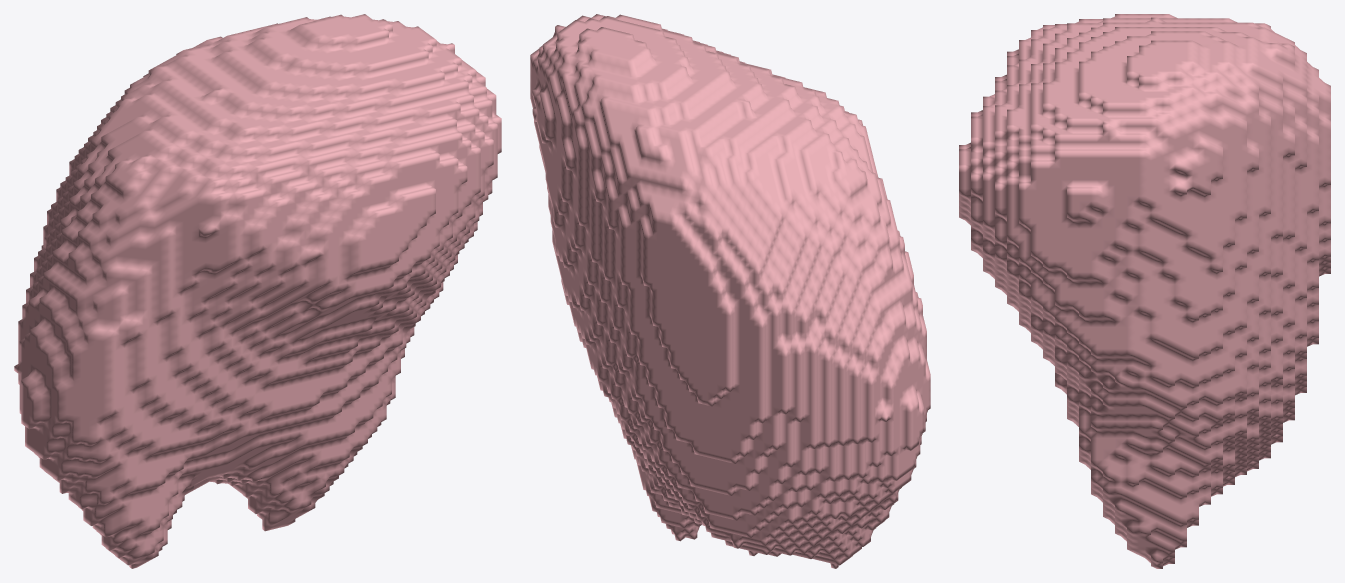
The model's file is region-9.glb.
The picture shows the model from 3 angles, left to right: view 1: azimuth 30°, elevation 25°; view 2: azimuth 150°, elevation 25°; view 3: azimuth 270°, elevation 25°; orthographic projection. The views are drawn at different scales.
Parts seen in each view (by area): view 1: digimouse-volume:9; view 2: digimouse-volume:9; view 3: digimouse-volume:9.
Part boxes in pixels (x1=…): digimouse-volume:9: x1=14, y1=14, x2=501, y2=568; digimouse-volume:9: x1=530, y1=14, x2=930, y2=568; digimouse-volume:9: x1=959, y1=14, x2=1330, y2=568.
Size of the model in its own units: 0.009 by 0.01 by 0.0062.
